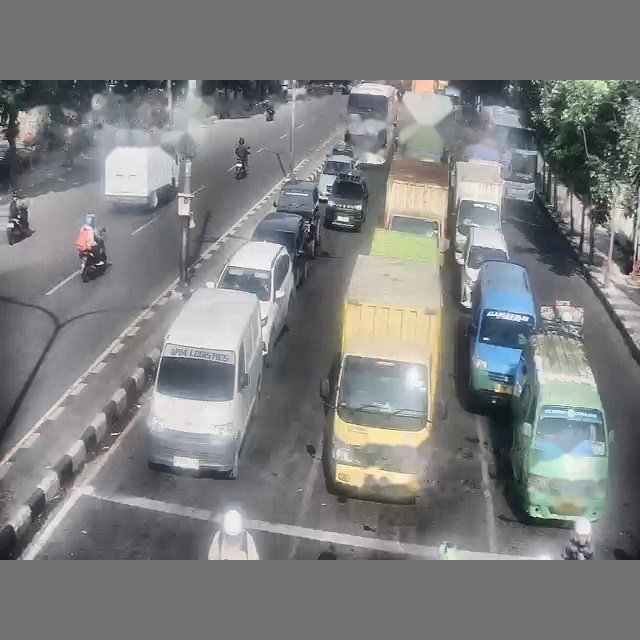Bis: (481, 105, 537, 202), (345, 83, 397, 164)
Mobil: (216, 241, 295, 360), (252, 212, 308, 288), (460, 227, 508, 308), (274, 178, 321, 258), (324, 173, 367, 231), (318, 154, 358, 202), (330, 142, 355, 158)
Motor: (79, 228, 107, 282), (6, 200, 32, 244), (233, 156, 247, 179), (265, 107, 275, 122)
Truk: (320, 255, 445, 501), (510, 301, 612, 520), (384, 157, 448, 251), (452, 159, 503, 263), (104, 144, 179, 209)
